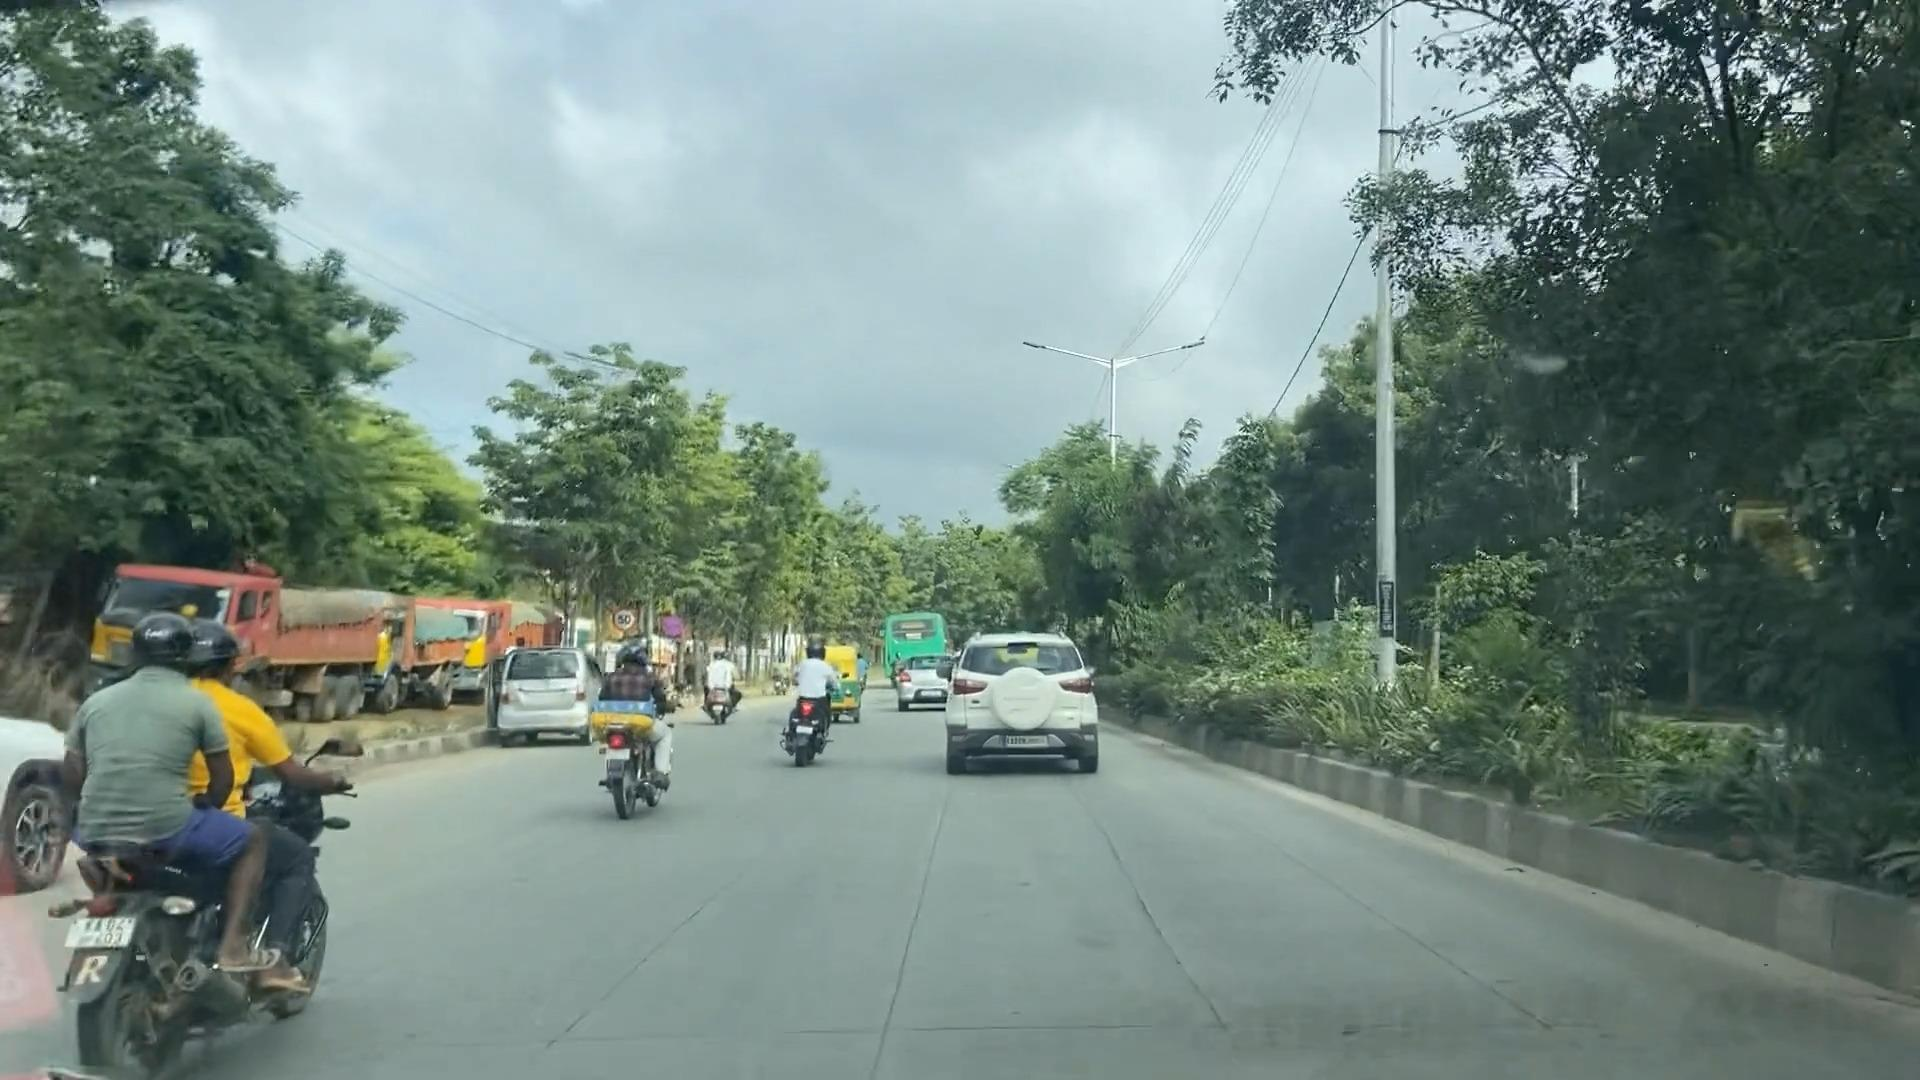LMV: (42, 597, 393, 1080), (926, 621, 1118, 799), (736, 551, 848, 825), (589, 620, 703, 823), (480, 638, 611, 750)
